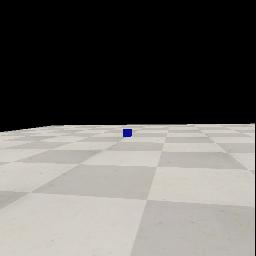box: (123, 129, 132, 137)
